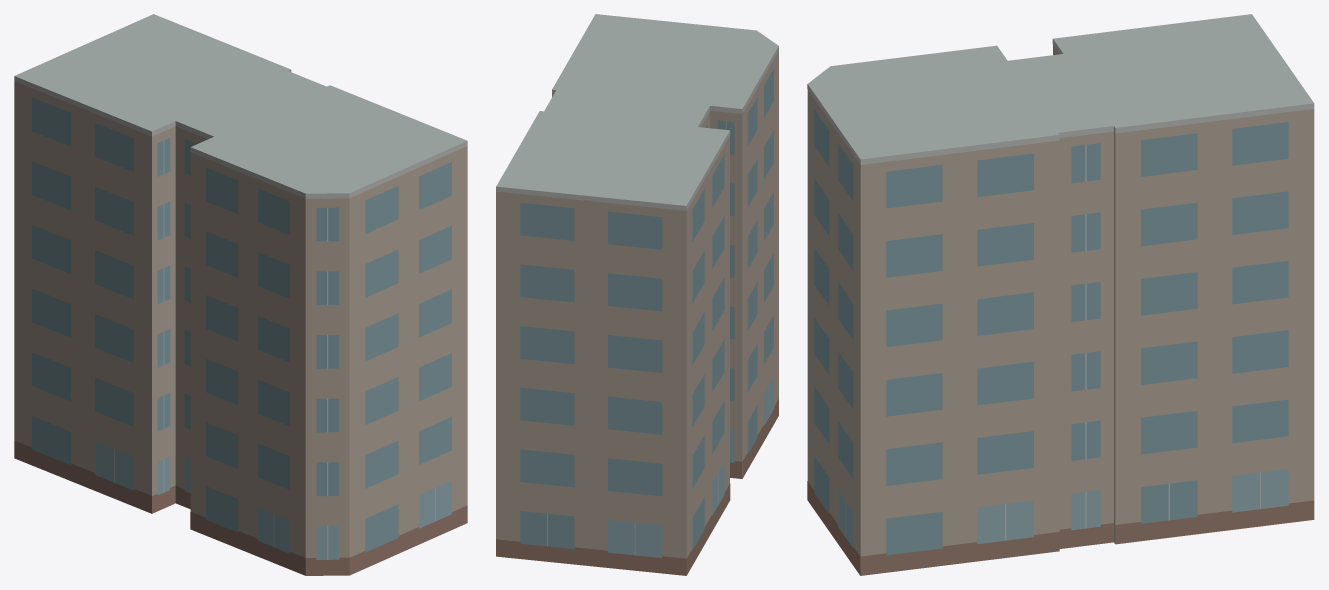
File: survey-upis-32613206.glb
The picture shows the model from 3 angles, left to right: view 1: azimuth 30°, elevation 25°; view 2: azimuth 150°, elevation 25°; view 3: azimuth 270°, elevation 25°; orthographic projection. The views are drawn at different scales.
Parts seen in each view (by area): view 1: survey-upis-32613206.tmp; view 2: survey-upis-32613206.tmp; view 3: survey-upis-32613206.tmp.
Boxes of the visible parts, x1,y1,x2,y2 form: survey-upis-32613206.tmp: (14, 14, 467, 575); survey-upis-32613206.tmp: (496, 14, 778, 575); survey-upis-32613206.tmp: (807, 14, 1314, 575).
Size of the model in its own units: 13.73 by 18.3 by 20.2.
